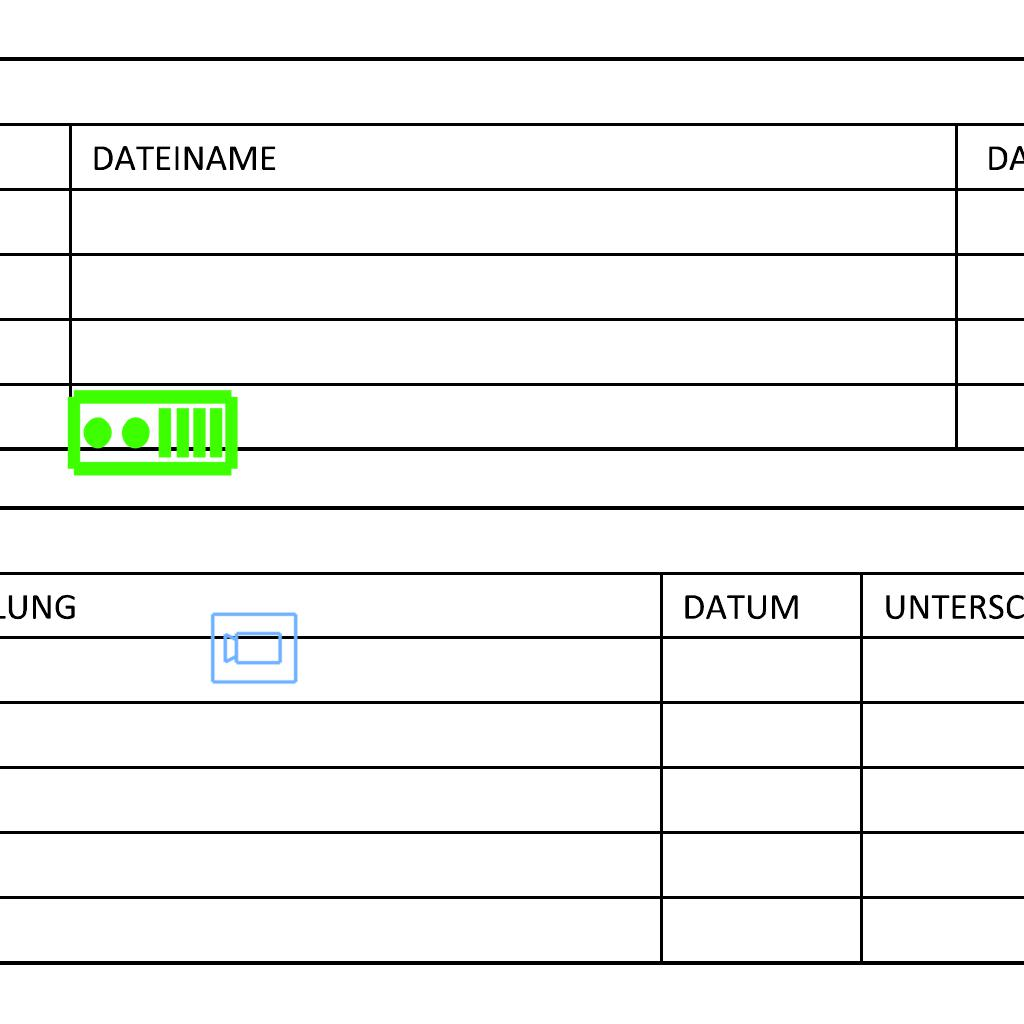Gegensprechanlage_mit_Video: (64, 387, 240, 482)
KFO_Kamera_mit_Festobjektiv: (209, 609, 300, 686)
